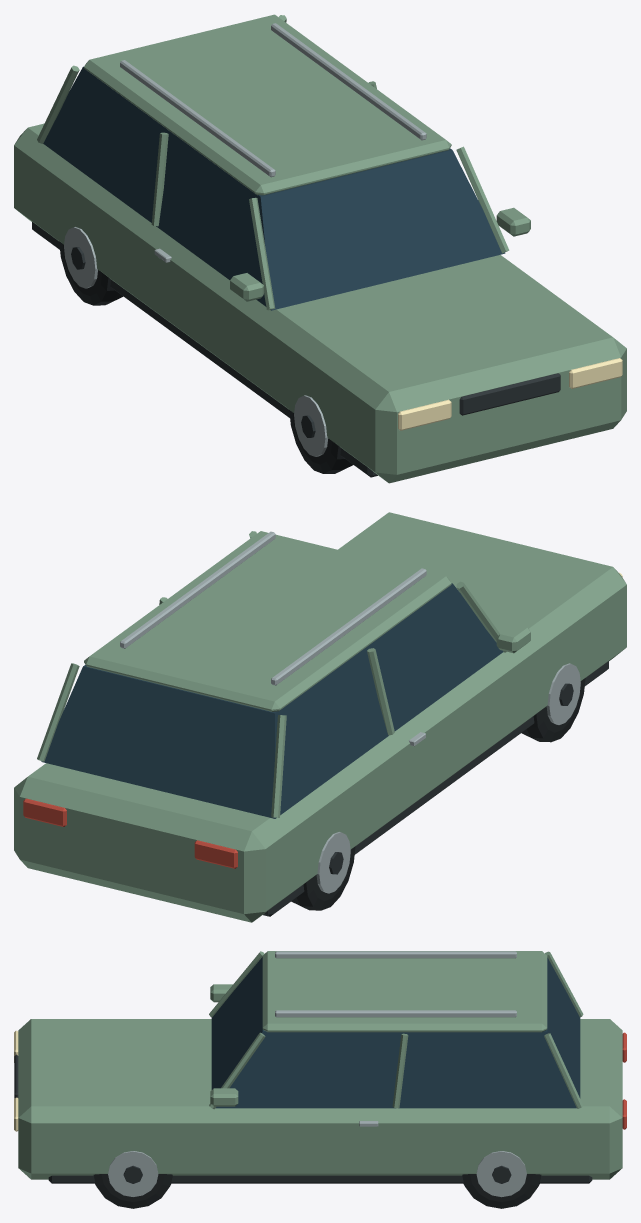
File: car-wagon-04.glb
3 renders of one model, top to bottom at view 1: azimuth 30°, elevation 25°; view 2: azimuth 150°, elevation 25°; view 3: azimuth 270°, elevation 25°, orthographic. The views are drawn at different scales.
Parts seen in each view (by area): view 1: Body, Glass, Roof, Sill, FrontGrille, RoofRail, RoofRail.001, Rim_FR, Rim_RR, Tyre_RR, Tyre_FR, Lamp_Head.001 (+7 smaller); view 2: Body, Glass, Roof, Sill, RoofRail, RoofRail.001, Rim_FR, Rim_RR, Tyre_RR, Tyre_FR, WindowPillar.002, WindowPillar.005 (+5 smaller); view 3: Body, Glass, Roof, Sill, RoofRail, RoofRail.001, Rim_FL, Rim_RL, Tyre_FL, Tyre_RL, WindowPillar.005, WindowPillar.004 (+4 smaller).
Boxes of the visible parts, bbox=[...] form: Body: bbox=[14, 123, 626, 483]; Glass: bbox=[43, 66, 505, 310]; Roof: bbox=[84, 14, 451, 195]; Sill: bbox=[32, 222, 377, 477]; FrontGrille: bbox=[459, 373, 560, 415]; RoofRail: bbox=[120, 60, 275, 177]; RoofRail.001: bbox=[271, 23, 426, 140]; Rim_FR: bbox=[294, 395, 328, 456]; Rim_RR: bbox=[64, 227, 97, 288]; Tyre_RR: bbox=[59, 241, 122, 305]; Tyre_FR: bbox=[289, 410, 352, 473]; Lamp_Head.001: bbox=[569, 358, 622, 388]; Body: bbox=[14, 512, 626, 922]; Glass: bbox=[41, 583, 503, 818]; Roof: bbox=[84, 531, 451, 711]; Sill: bbox=[263, 661, 608, 916]; RoofRail: bbox=[271, 568, 426, 685]; RoofRail.001: bbox=[120, 531, 275, 648]; Rim_FR: bbox=[546, 663, 580, 724]; Rim_RR: bbox=[316, 832, 350, 893]; Tyre_RR: bbox=[291, 846, 355, 910]; Tyre_FR: bbox=[521, 678, 585, 742]; WindowPillar.002: bbox=[271, 715, 286, 817]; WindowPillar.005: bbox=[37, 663, 79, 761]; Body: bbox=[18, 1019, 622, 1179]; Glass: bbox=[211, 957, 580, 1108]; Roof: bbox=[262, 951, 547, 1032]; Sill: bbox=[48, 1175, 592, 1183]; RoofRail: bbox=[275, 951, 516, 958]; RoofRail.001: bbox=[275, 1010, 516, 1017]; Rim_FL: bbox=[108, 1151, 158, 1196]; Rim_RL: bbox=[476, 1151, 526, 1197]; Tyre_FL: bbox=[93, 1174, 172, 1208]; Tyre_RL: bbox=[462, 1174, 541, 1208]; WindowPillar.005: bbox=[544, 1033, 583, 1108]; WindowPillar.004: bbox=[392, 1033, 408, 1108].
Bounding box in the file's own units: 2.09 × 1.57 × 4.82.
